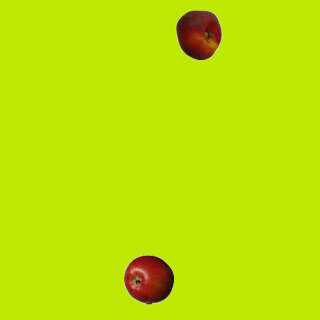Apple Braeburn: (123, 254, 173, 304)
Nectarine Flat: (173, 9, 223, 59)
